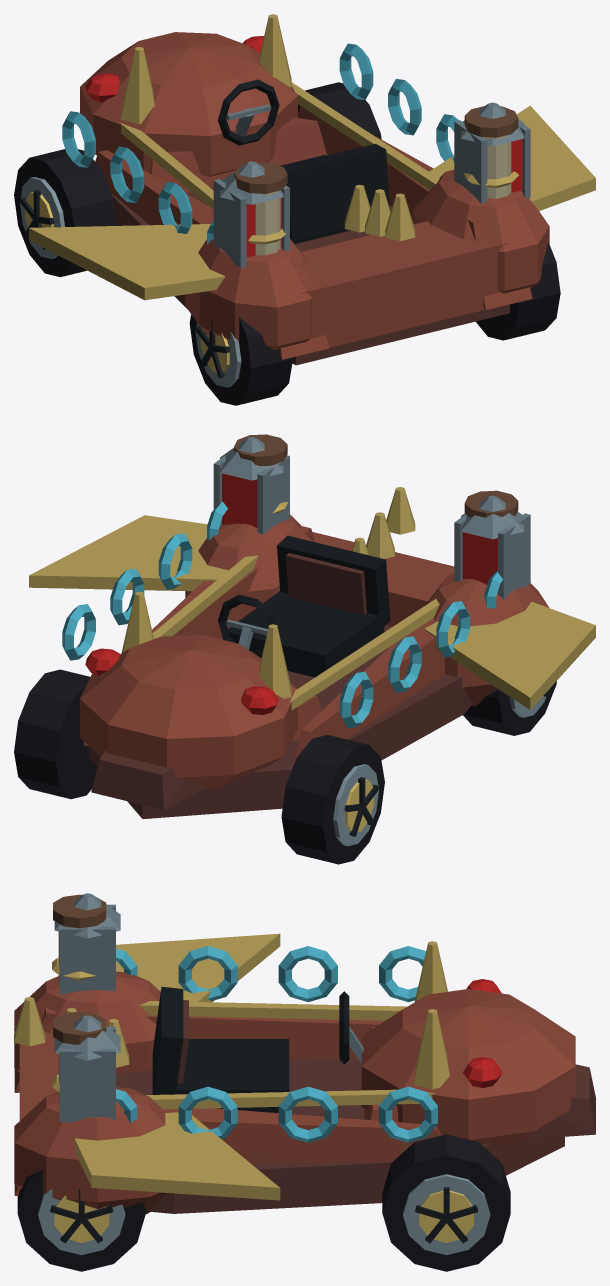
File: kart.glb
The picture shows the model from 3 angles, top to bottom: view 1: azimuth 30°, elevation 25°; view 2: azimuth 150°, elevation 25°; view 3: azimuth 270°, elevation 25°; orthographic projection. The views are drawn at different scales.
Parts seen in each view (by area): view 1: identity-dragon-dragon-sculpted-prow-and-haunches, identity-dragon-driver-cockpit, identity-dragon-motif-lanterns, wheel-front-left, identity-dragon-motif-water, wheel-rear-left, identity-dragon-motif-scrolls, wheel-rear-right, wheel-front-right; view 2: identity-dragon-dragon-sculpted-prow-and-haunches, identity-dragon-driver-cockpit, identity-dragon-motif-lanterns, wheel-front-left, identity-dragon-motif-water, wheel-front-right, wheel-rear-left, identity-dragon-motif-scrolls; view 3: identity-dragon-dragon-sculpted-prow-and-haunches, wheel-front-right, identity-dragon-motif-water, identity-dragon-driver-cockpit, identity-dragon-motif-lanterns, wheel-rear-right, identity-dragon-motif-scrolls.
Boxes of the visible parts, <box> form: identity-dragon-dragon-sculpted-prow-and-haunches: <box>29,14,595,365</box>; identity-dragon-driver-cockpit: <box>218,79,389,243</box>; identity-dragon-motif-lanterns: <box>213,102,530,268</box>; wheel-front-left: <box>14,149,116,277</box>; identity-dragon-motif-water: <box>62,43,458,244</box>; wheel-rear-left: <box>189,314,292,405</box>; identity-dragon-motif-scrolls: <box>234,106,519,255</box>; wheel-rear-right: <box>476,242,560,340</box>; wheel-front-right: <box>298,82,381,139</box>; identity-dragon-dragon-sculpted-prow-and-haunches: <box>29,487,595,818</box>; identity-dragon-driver-cockpit: <box>218,535,390,677</box>; identity-dragon-motif-lanterns: <box>213,437,530,599</box>; wheel-front-left: <box>281,735,384,864</box>; identity-dragon-motif-water: <box>62,501,502,728</box>; wheel-front-right: <box>14,669,97,799</box>; wheel-rear-left: <box>463,681,556,735</box>; identity-dragon-motif-scrolls: <box>234,434,518,517</box>; identity-dragon-dragon-sculpted-prow-and-haunches: <box>14,933,595,1213</box>; wheel-front-right: <box>382,1134,510,1271</box>; identity-dragon-motif-water: <box>116,946,437,1142</box>; identity-dragon-driver-cockpit: <box>152,986,363,1112</box>; identity-dragon-motif-lanterns: <box>54,893,120,1122</box>; wheel-rear-right: <box>17,1169,145,1271</box>; identity-dragon-motif-scrolls: <box>52,894,106,1102</box>.
Size of the model in its own units: 3 by 1.3 by 2.9.
